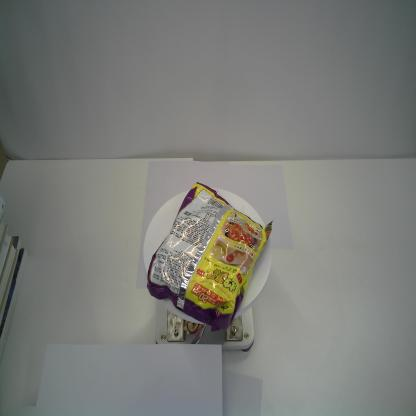Instant Noodles: (146, 180, 275, 334)
